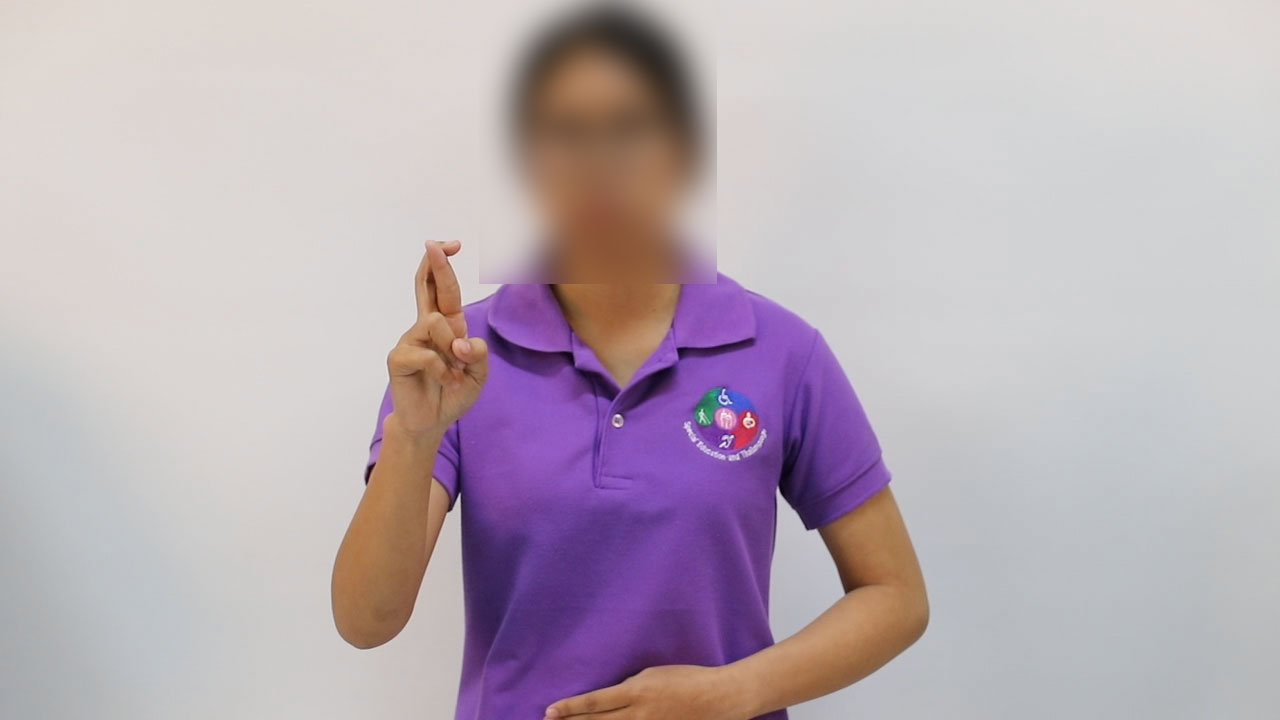rao: (365, 234, 494, 450)
